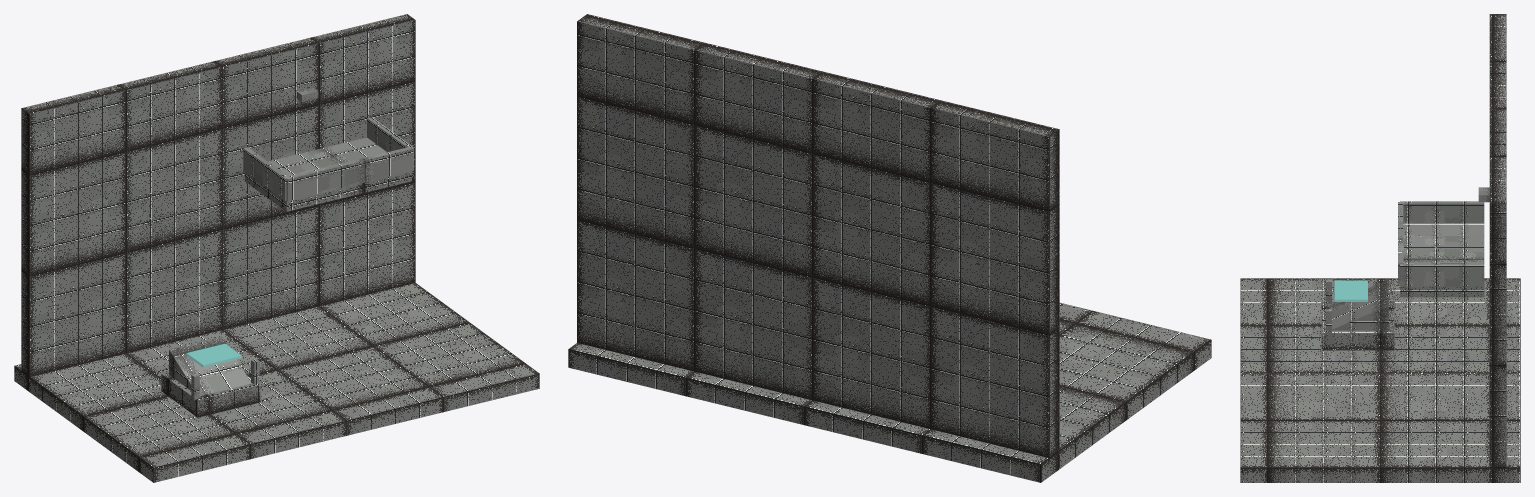
Rendered from gate_launch.glb.
3 views of the same model, side by side, from view 1: azimuth 30°, elevation 25°; view 2: azimuth 150°, elevation 25°; view 3: azimuth 270°, elevation 25° (orthographic). The views are drawn at different scales.
Visible parts, largest first — view 1: gate_launch; view 2: gate_launch; view 3: gate_launch.
Boxes of the visible parts, x1=… form: gate_launch: x1=14, y1=14, x2=539, y2=482; gate_launch: x1=568, y1=14, x2=1211, y2=482; gate_launch: x1=1240, y1=14, x2=1520, y2=482.
Size of the model in its own units: 8 by 5.5 by 5.
3 materials, 2 textured.
